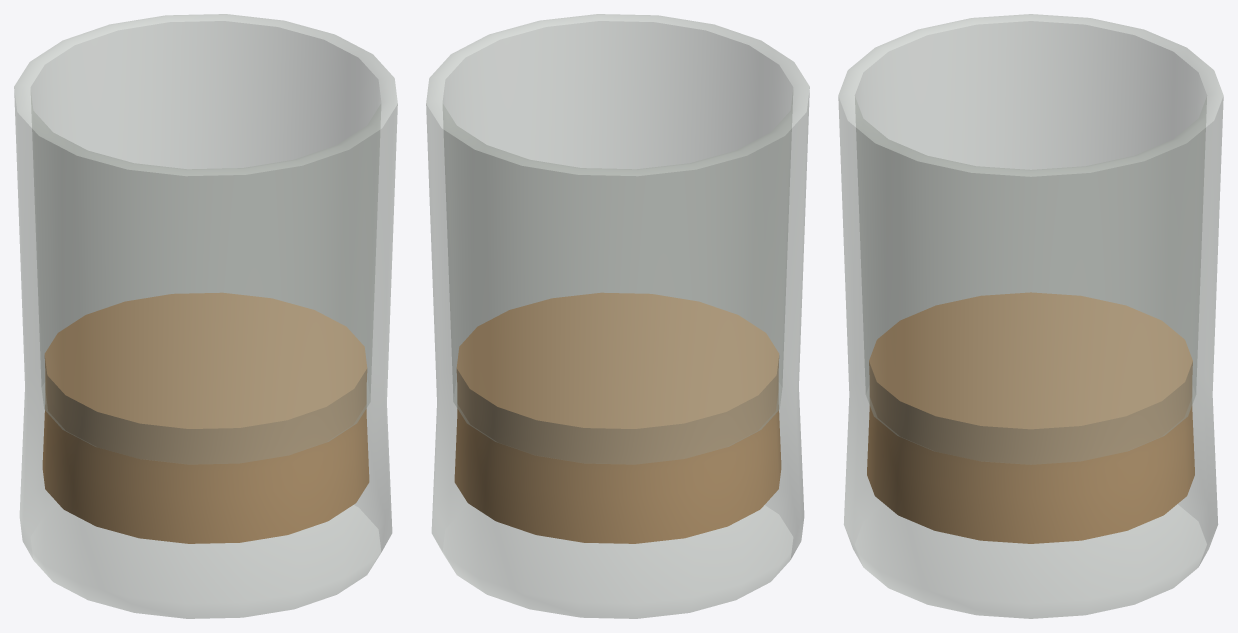
Rendered from rocks-glass.glb.
3 renders of one model, left to right at view 1: azimuth 30°, elevation 25°; view 2: azimuth 150°, elevation 25°; view 3: azimuth 270°, elevation 25°, orthographic.
Visible parts, largest first — view 1: glass, liquid; view 2: glass, liquid; view 3: glass, liquid.
Part boxes in pixels (left/top/right/bottom): glass: left=14, top=14, right=397, bottom=618; liquid: left=42, top=292, right=369, bottom=543; glass: left=426, top=14, right=809, bottom=618; liquid: left=454, top=292, right=781, bottom=543; glass: left=838, top=14, right=1223, bottom=618; liquid: left=867, top=292, right=1194, bottom=543.
Bounding box in the file's own units: 0.07 × 0.0904 × 0.07.
